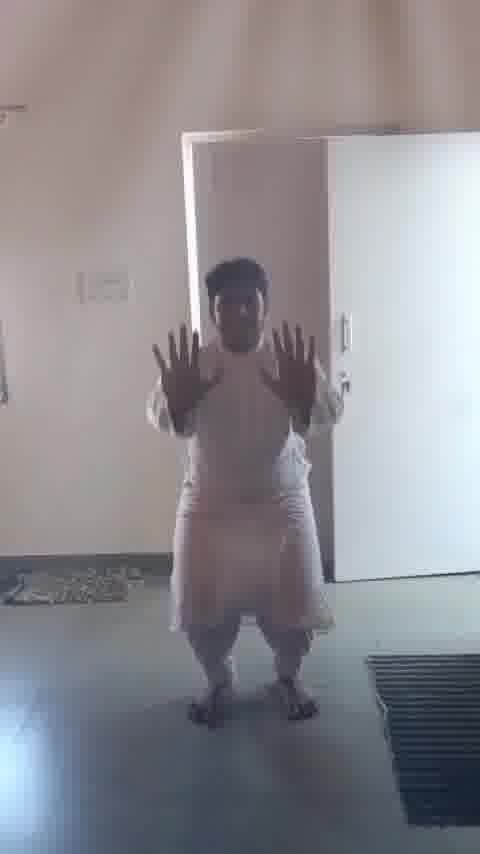duck: (135, 245, 337, 721)
